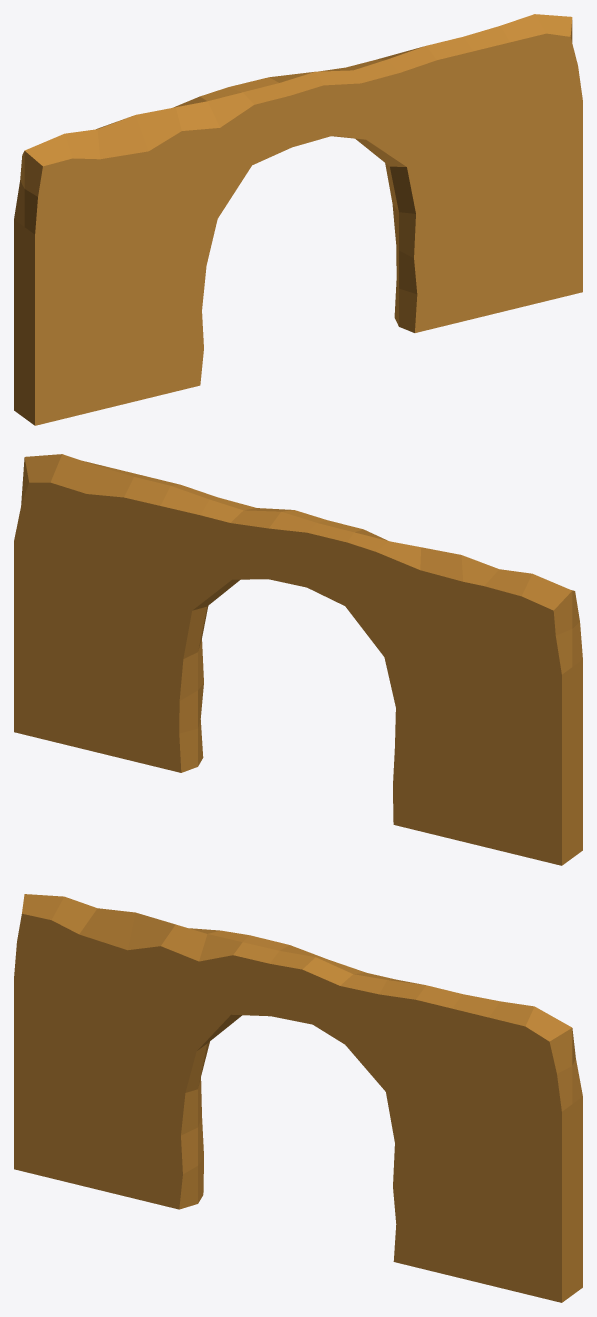
Rendered from Arch3.fbx.
3 renders of one model, top to bottom at view 1: azimuth 30°, elevation 25°; view 2: azimuth 150°, elevation 25°; view 3: azimuth 330°, elevation 25°, orthographic.
Parts seen in each view (by area): view 1: Wall; view 2: Wall; view 3: Wall.
Boxes of the visible parts, box(x1,y1,x2,y2) form: Wall: box(14, 14, 582, 425); Wall: box(14, 454, 582, 865); Wall: box(14, 894, 582, 1302).
Size of the model in its own units: 300 by 146 by 20.
